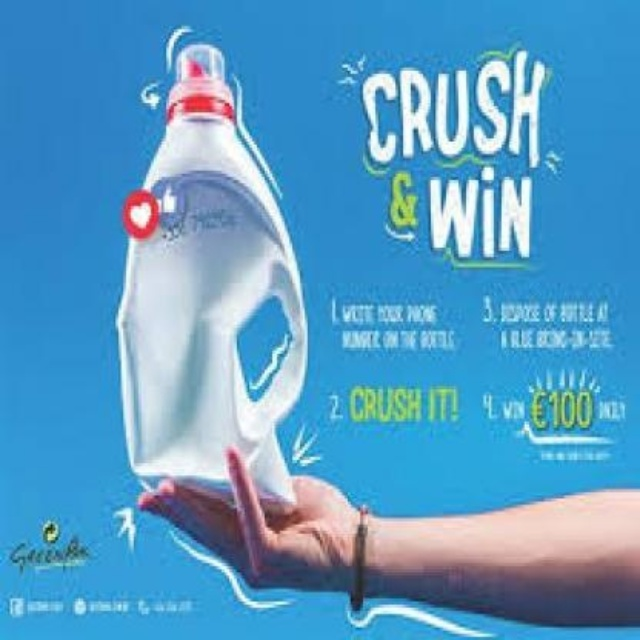trash: (117, 45, 306, 502)
